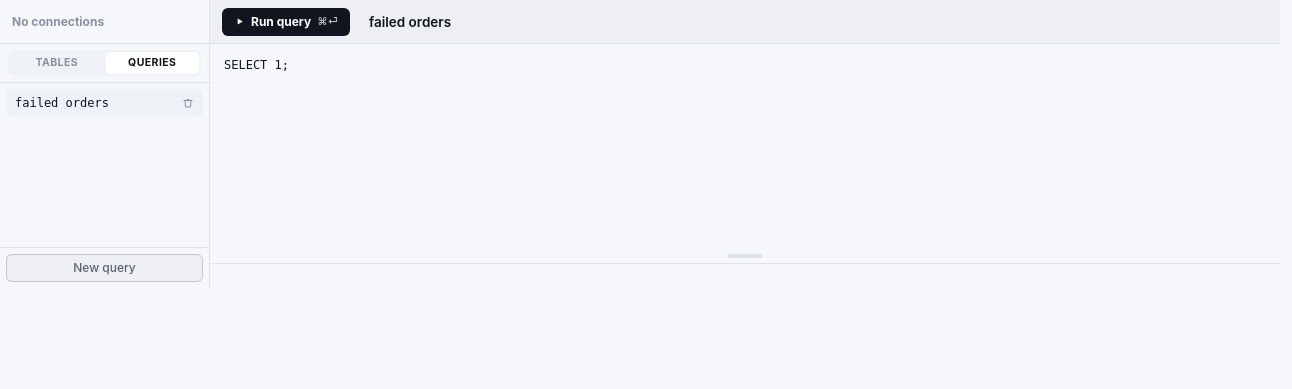
QueryTab › stages the statement with the effect the run reported
Click the button "Run query ⌘⏎".
click(286, 22)  # box x1=222 y1=8 x2=350 y2=36
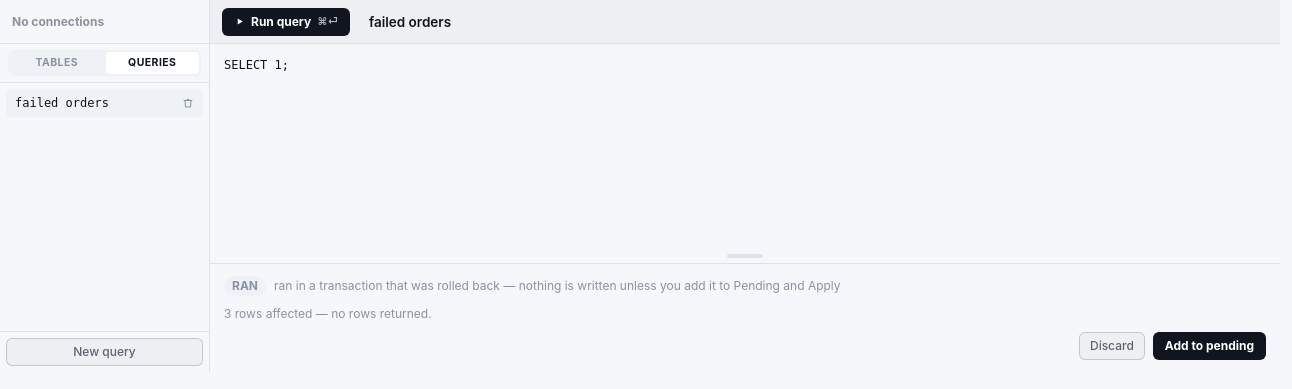
expect the button "Add to pending" is enabled: met
Click the button "Add to pending".
click(1209, 346)  # box x1=1153 y1=332 x2=1266 y2=360
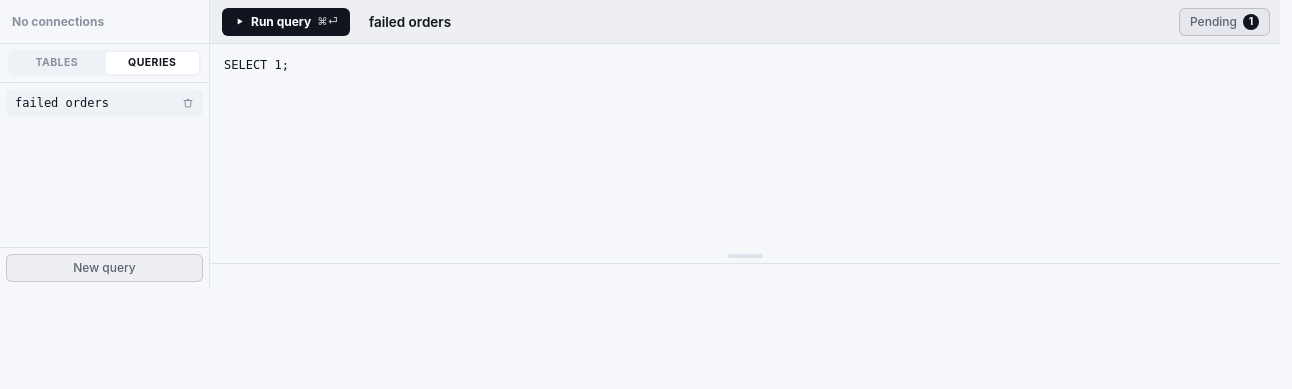
expect the button "Add to pending" is gone: met
